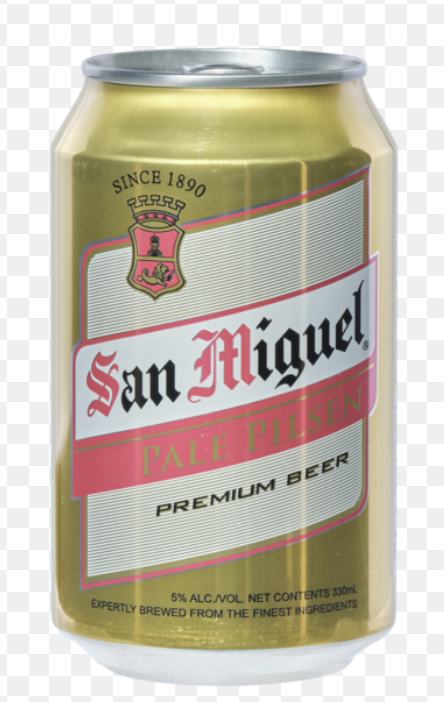beer-can: (49, 46, 397, 684)
